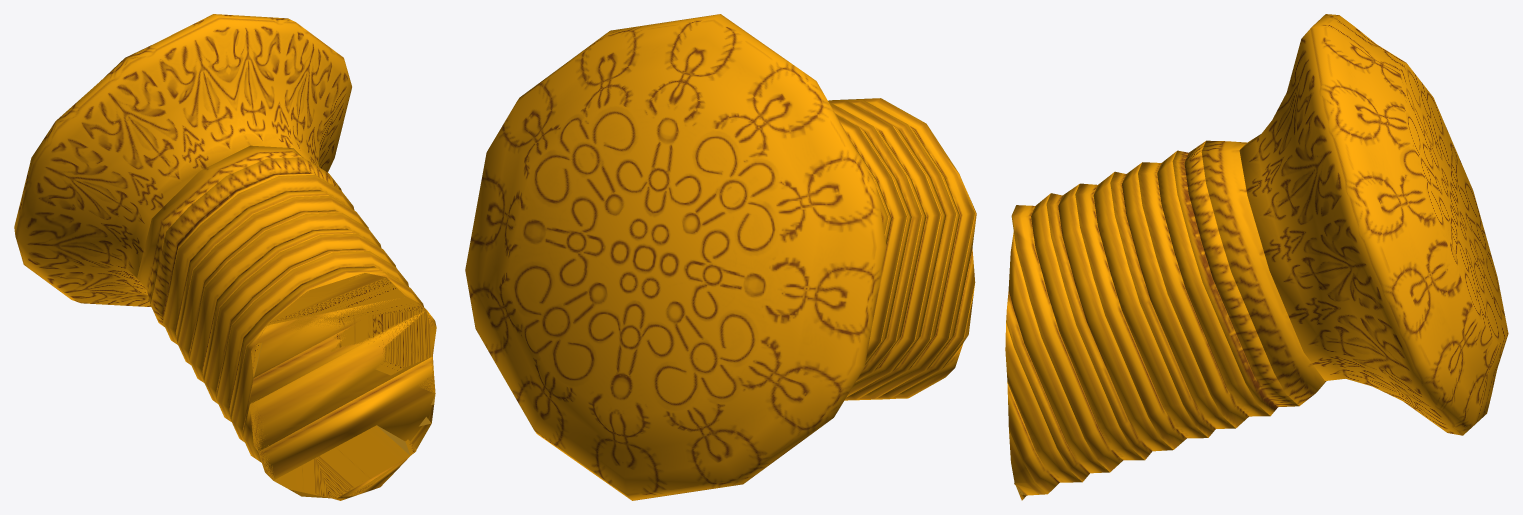
File: Tatarapang_terpotong4.fbx
3 renders of one model, left to right at view 1: azimuth 30°, elevation 25°; view 2: azimuth 150°, elevation 25°; view 3: azimuth 270°, elevation 25°, orthographic. The views are drawn at different scales.
Visible parts, largest first — view 1: sarung1-lp.001_Material-Sarung1_0.004; view 2: sarung1-lp.001_Material-Sarung1_0.004; view 3: sarung1-lp.001_Material-Sarung1_0.004.
Part boxes in pixels (x1,y1,x2,y2): sarung1-lp.001_Material-Sarung1_0.004: (14, 14, 436, 500); sarung1-lp.001_Material-Sarung1_0.004: (465, 14, 976, 500); sarung1-lp.001_Material-Sarung1_0.004: (1005, 14, 1508, 500).
Bounding box in the file's own units: 17.32 × 20.45 × 20.24.
1 material, 1 textured.
